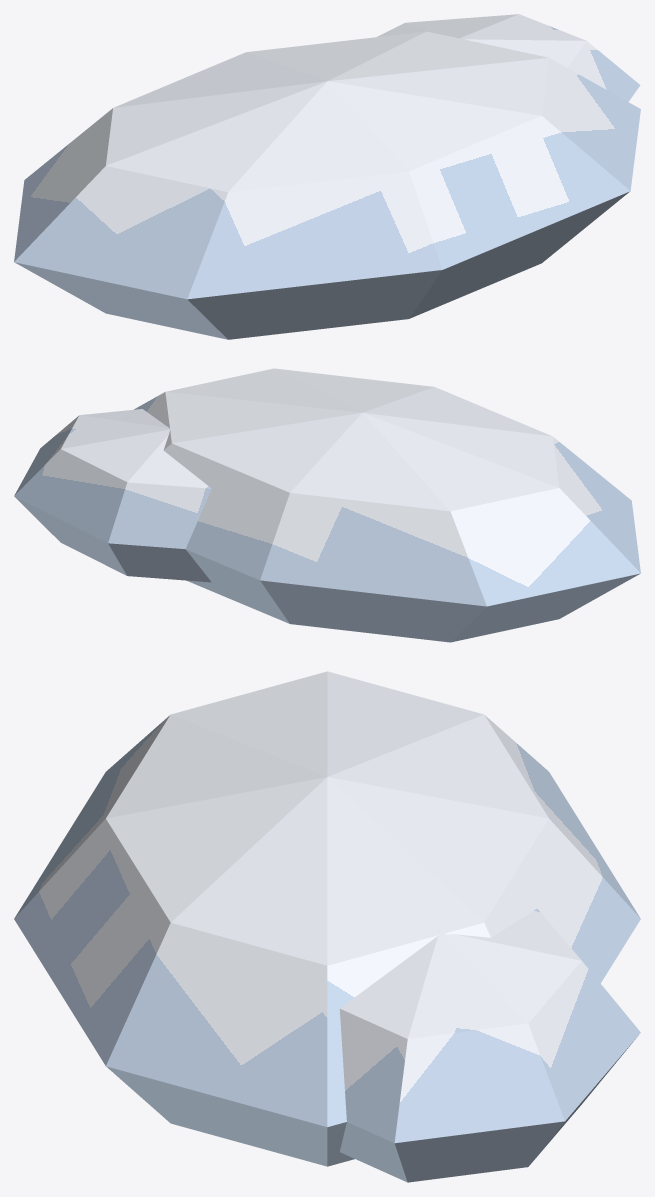
The model's file is prop_drift.glb.
3 renders of one model, top to bottom at view 1: azimuth 30°, elevation 25°; view 2: azimuth 150°, elevation 25°; view 3: azimuth 270°, elevation 25°, orthographic. The views are drawn at different scales.
Visible parts, largest first — view 1: prop_drift; view 2: prop_drift; view 3: prop_drift.
Boxes of the visible parts, left/top/right/bottom form: prop_drift: left=14, top=14, right=640, bottom=339; prop_drift: left=14, top=368, right=640, bottom=642; prop_drift: left=14, top=671, right=640, bottom=1182.
Size of the model in its own units: 2.28 by 0.7 by 1.4.
Materials: 1 (1 with a texture image).
